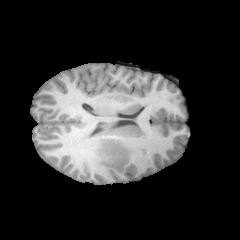glioma: (99, 138, 133, 173)
